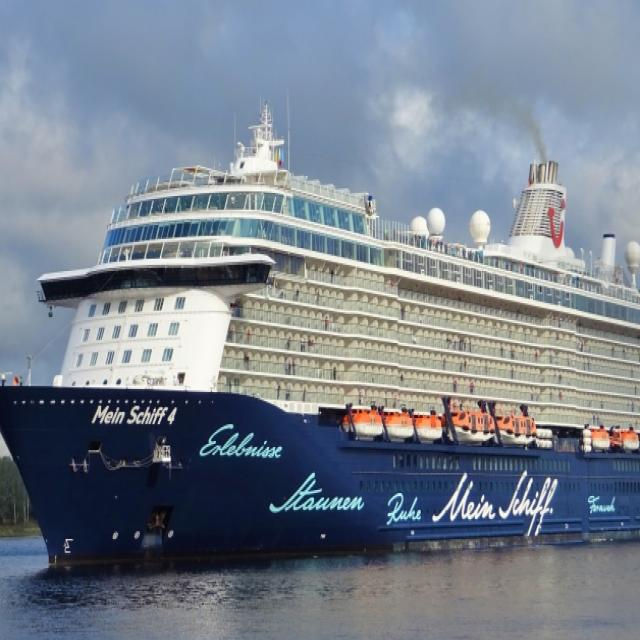cruises: (1, 105, 640, 577)
